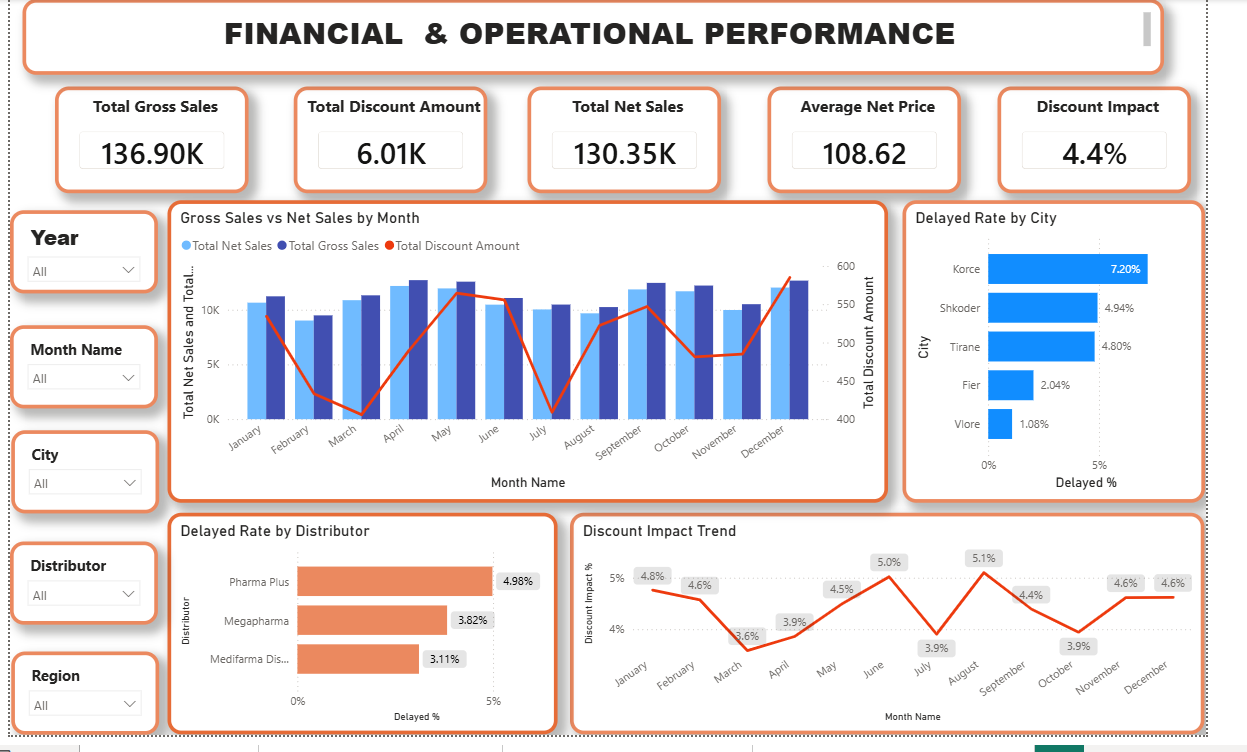

The dashboard page shown, as its layout file describes it:
{"tool":"powerbi","page":{"name":"Financial Status & Operations","canvas":[1300,800],"ordinal":2},"visuals":[{"type":"slicer","fields":{"Values":["Calendar Table.Year"]},"box":[0,230,160.5,90.6],"z":0},{"type":"slicer","fields":{"Values":["Calendar Table.Month Name"]},"box":[0,354,160.5,90.6],"z":1000},{"type":"slicer","fields":{"Values":["Pharmacy dataset.City"]},"box":[1.4,468.3,160.5,90.6],"z":2000},{"type":"slicer","fields":{"Values":["Pharmacy dataset.Region"]},"box":[1.4,709.4,160.5,90.6],"z":3000},{"type":"cardVisual","title":"Total Gross Sales","fields":{"Data":["_measures.Total Gross Sales"]},"box":[48.8,94.8,210.4,115.7],"z":4000},{"type":"cardVisual","title":"Total Discount Amount","fields":{"Data":["_measures.Total Discount Amount"]},"box":[308,94.8,210,115.7],"z":5000},{"type":"cardVisual","title":"Average Net Price","fields":{"Data":["_measures.Average Net Price"]},"box":[823.7,94.8,210,115.7],"z":6000},{"type":"cardVisual","title":"Discount Impact","fields":{"Data":["_measures.Discount Impact %"]},"box":[1073.1,94.8,210,115.7],"z":7000},{"type":"clusteredBarChart","title":"Delayed Rate by City","fields":{"Category":["Pharmacy dataset.City"],"Y":["_measures.Delayed %"]},"box":[970,218.8,328.9,328.9],"z":8000},{"type":"lineChart","title":"Discount Impact Trend","fields":{"Category":["Calendar Table.Month Name"],"Y":["_measures.Discount Impact %"]},"box":[609,558.9,689.9,241.1],"z":9000},{"type":"textbox","box":[13.7,0,1240.5,82.3],"z":10000},{"type":"cardVisual","title":"Total Net Sales","fields":{"Data":["_measures.Total Net Sales"]},"box":[563,94.8,210,115.7],"z":11000},{"type":"lineClusteredColumnComboChart","title":"Gross Sales vs Net Sales by Month","fields":{"Category":["Calendar Table.Month Name"],"Y":["_measures.Total Net Sales","_measures.Total Gross Sales"],"Y2":["_measures.Total Discount Amount"]},"box":[171.4,218.8,783.2,328.9],"z":12000},{"type":"clusteredBarChart","title":"Delayed Rate by Distributor","fields":{"Category":["Pharmacy dataset.Distributor"],"Y":["_measures.Delayed %"]},"box":[171.4,558.9,423.7,241.1],"z":13000},{"type":"slicer","fields":{"Values":["Pharmacy dataset.Distributor"]},"box":[0,589.5,160.5,90.6],"z":14000}]}

Visuals, with their boxes in screenshot pixels (x1, y1, x2, y2), scaled from the page's 1300x800 canvas onto the 1247x752 screenshot:
slicer - Calendar Table.Year: [0,216,154,301]
slicer - Calendar Table.Month Name: [0,333,154,418]
slicer - Pharmacy dataset.City: [1,440,155,525]
slicer - Pharmacy dataset.Region: [1,667,155,751]
"Total Gross Sales" cardVisual: [47,89,249,198]
"Total Discount Amount" cardVisual: [295,89,497,198]
"Average Net Price" cardVisual: [790,89,992,198]
"Discount Impact" cardVisual: [1029,89,1231,198]
"Delayed Rate by City" clusteredBarChart: [930,206,1246,515]
"Discount Impact Trend" lineChart: [584,525,1246,751]
textbox: [13,0,1203,77]
"Total Net Sales" cardVisual: [540,89,741,198]
"Gross Sales vs Net Sales by Month" lineClusteredColumnComboChart: [164,206,916,515]
"Delayed Rate by Distributor" clusteredBarChart: [164,525,571,751]
slicer - Pharmacy dataset.Distributor: [0,554,154,639]
